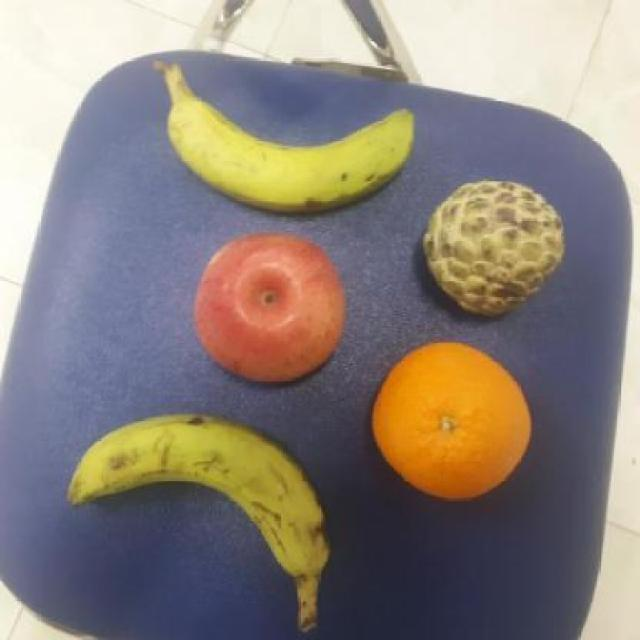apple: (190, 228, 348, 384)
banana: (70, 412, 332, 583), (162, 86, 416, 212)
oren: (363, 341, 532, 504)
sugar apple: (418, 175, 570, 319)
